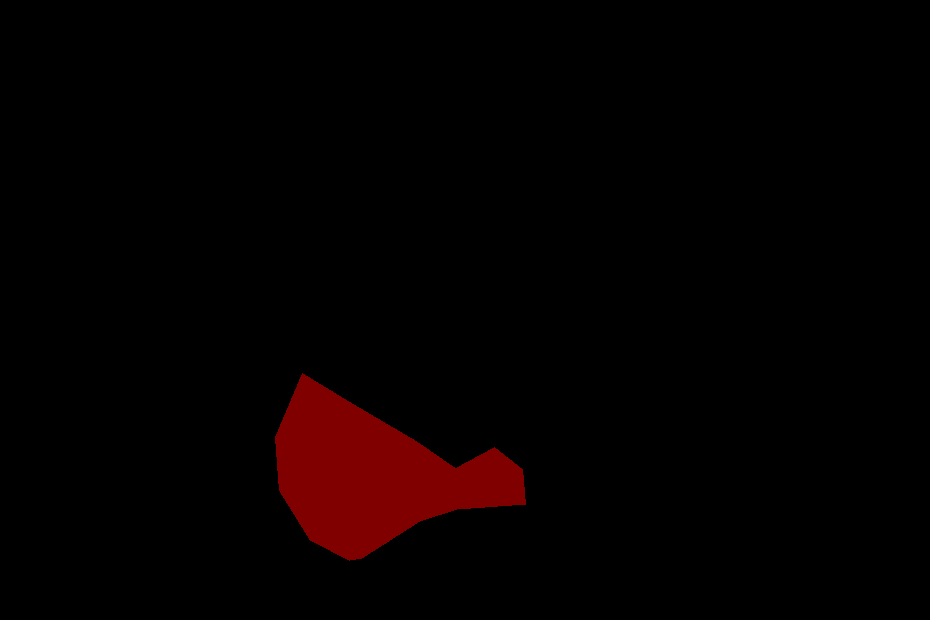fire: (275, 373, 525, 560)
